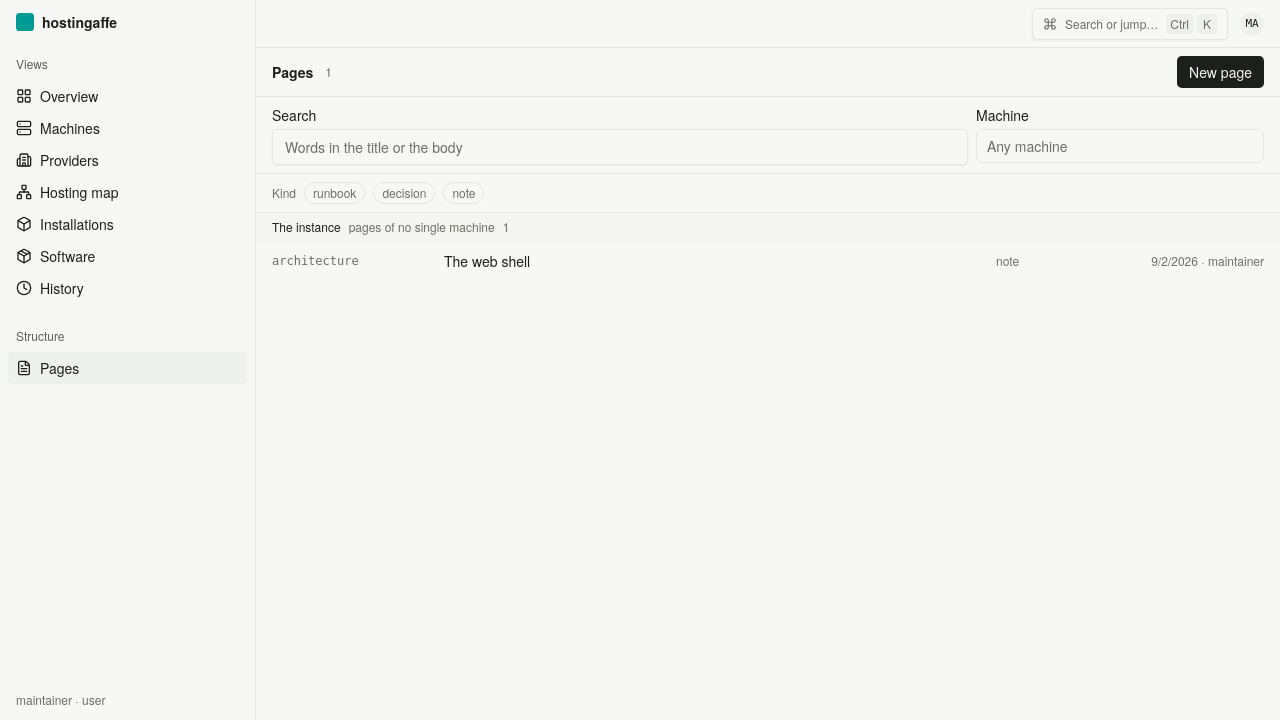
the shell (ADR 0006) › offers the overview from the account menu
The width and height of the screenshot is (1280, 720).
Click the button with aria-label "Account: maintainer".
click(1252, 24)  # box [1236,8,1268,40]
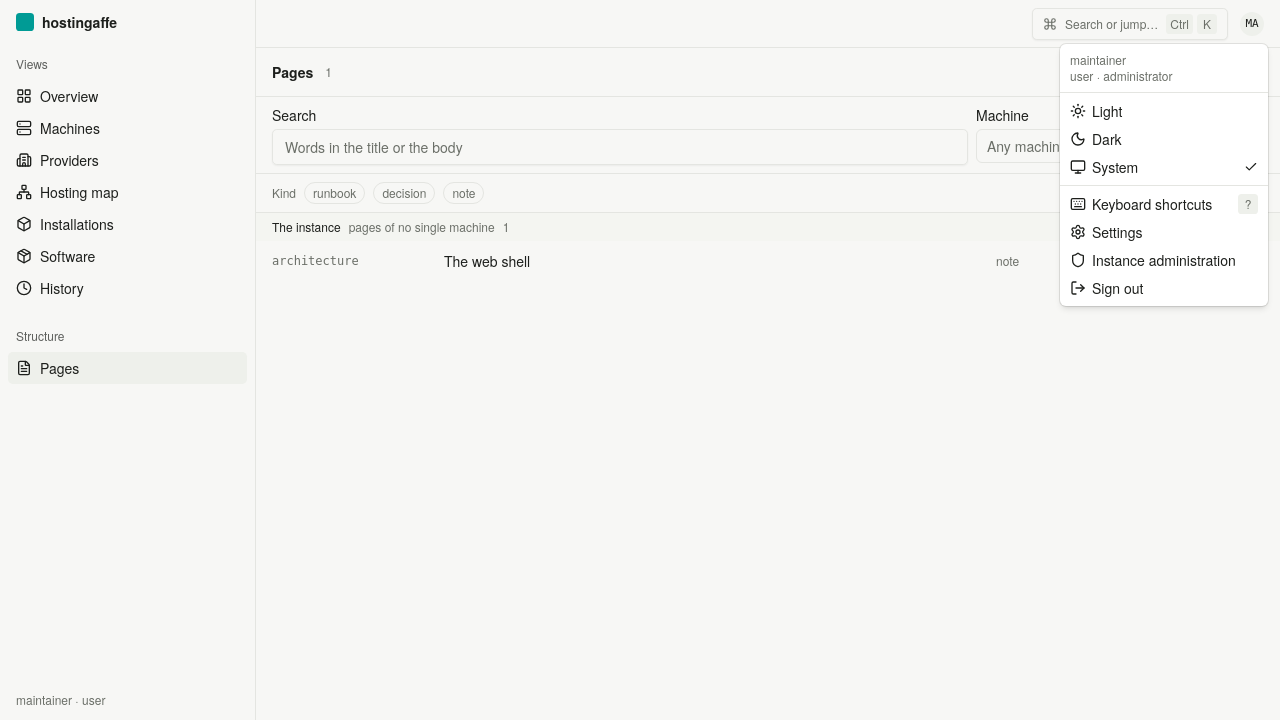
Click the menu item "Keyboard shortcuts ?".
click(1164, 204)  # box [1064,190,1264,218]
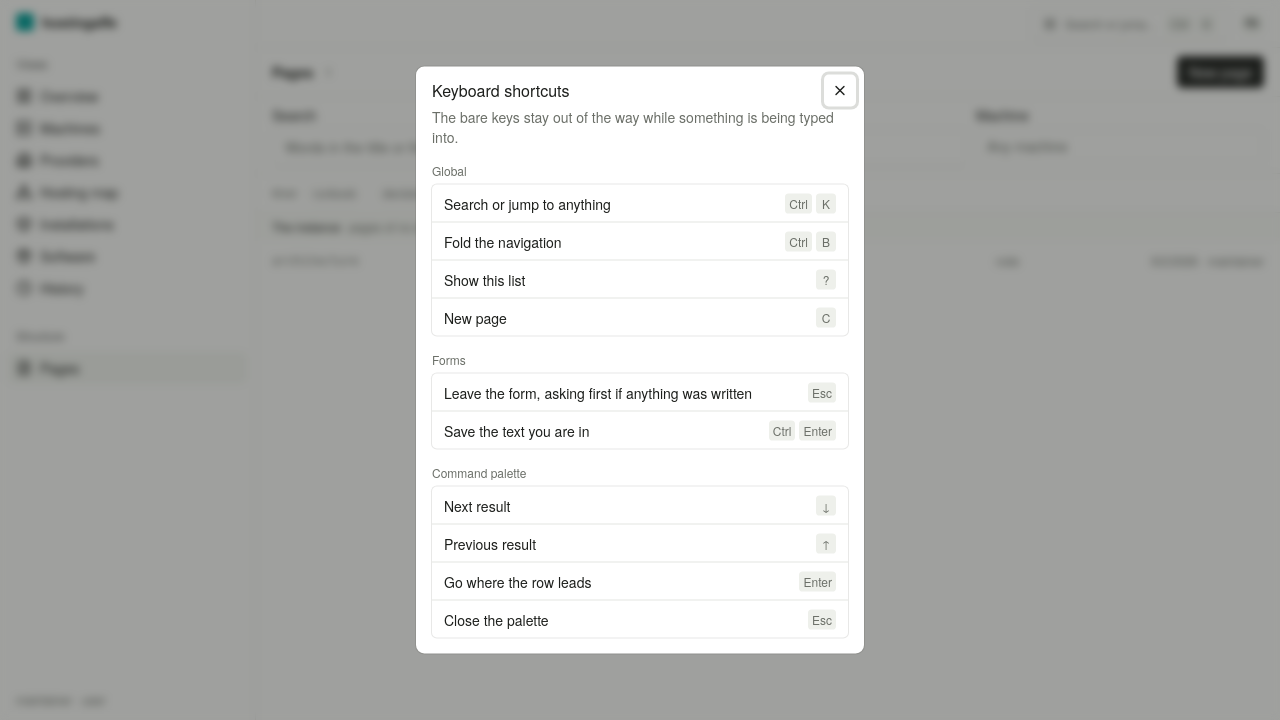
Check: the dialog "Keyboard shortcuts" is shown, box [416,66,864,654]
